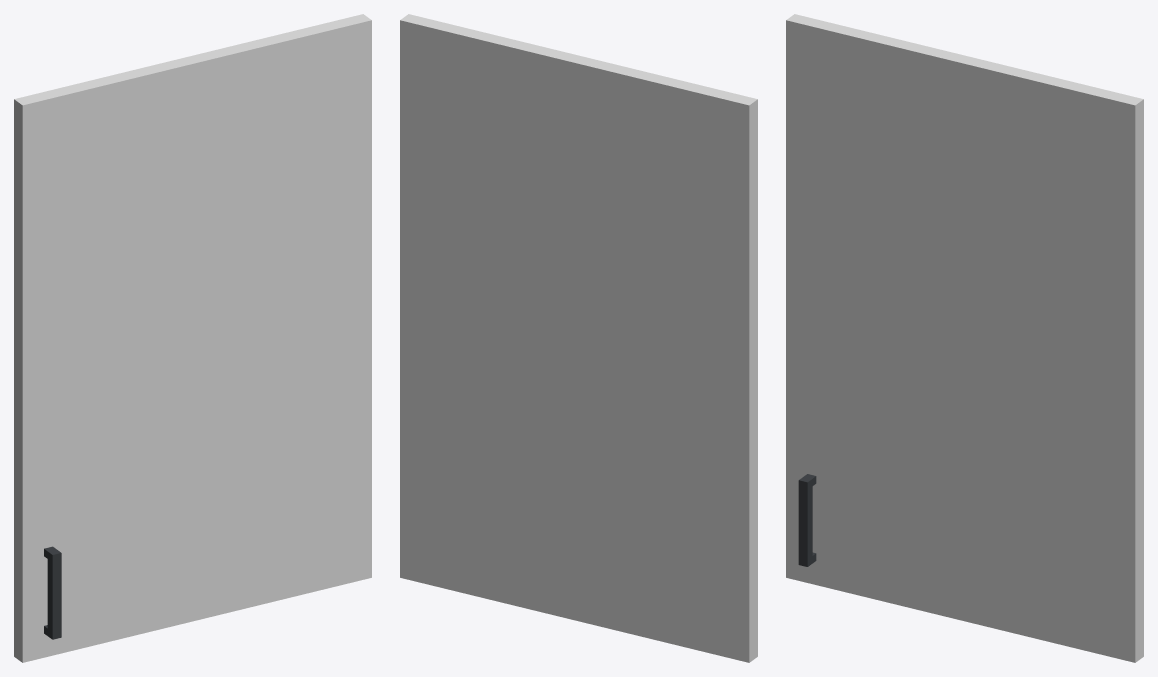
File: Door1_C1_11.fbx
3 renders of one model, left to right at view 1: azimuth 30°, elevation 25°; view 2: azimuth 150°, elevation 25°; view 3: azimuth 330°, elevation 25°, orthographic.
Parts seen in each view (by area): view 1: Door1_C1_11; view 2: Door1_C1_11; view 3: Door1_C1_11.
Boxes of the visible parts, <box> form: Door1_C1_11: <box>14,14,371,662</box>; Door1_C1_11: <box>400,14,757,662</box>; Door1_C1_11: <box>786,14,1143,662</box>.
Size of the model in its own units: 59 by 90 by 5.03.
